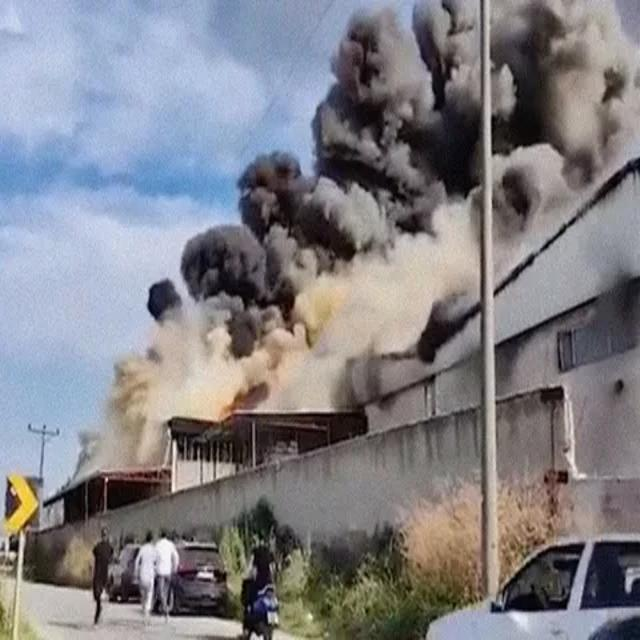Smoke: (78, 0, 640, 477)
